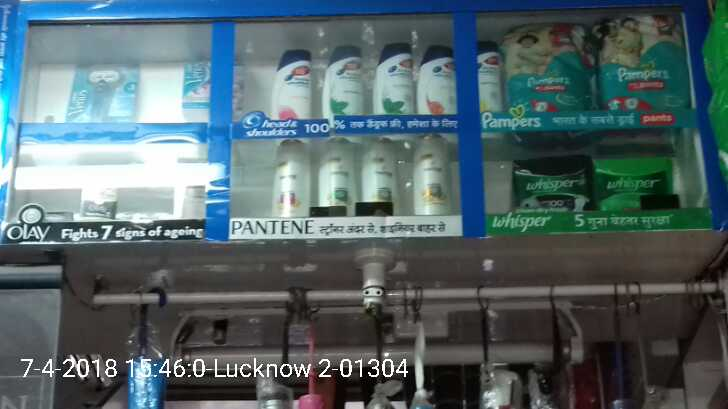venus: (181, 55, 242, 126), (71, 55, 133, 118)
